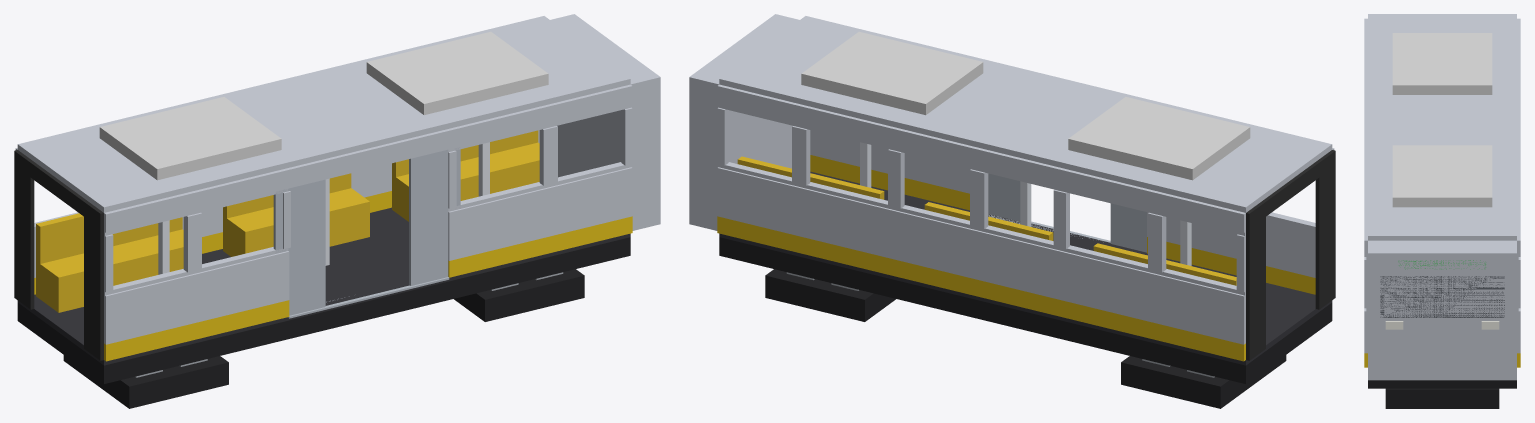
Rendered from metro_wagon_lead_half_l4.obj.
3 views of the same model, side by side, from view 1: azimuth 30°, elevation 25°; view 2: azimuth 150°, elevation 25°; view 3: azimuth 270°, elevation 25° (orthographic). The views are drawn at different scales.
Bounding box in the file's own units: 3.16 × 1.26 × 0.88.
